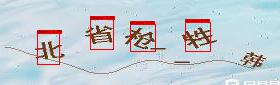chinese: (181, 28, 219, 49), (124, 26, 154, 52), (34, 38, 63, 64), (239, 49, 270, 71), (85, 25, 117, 46)
